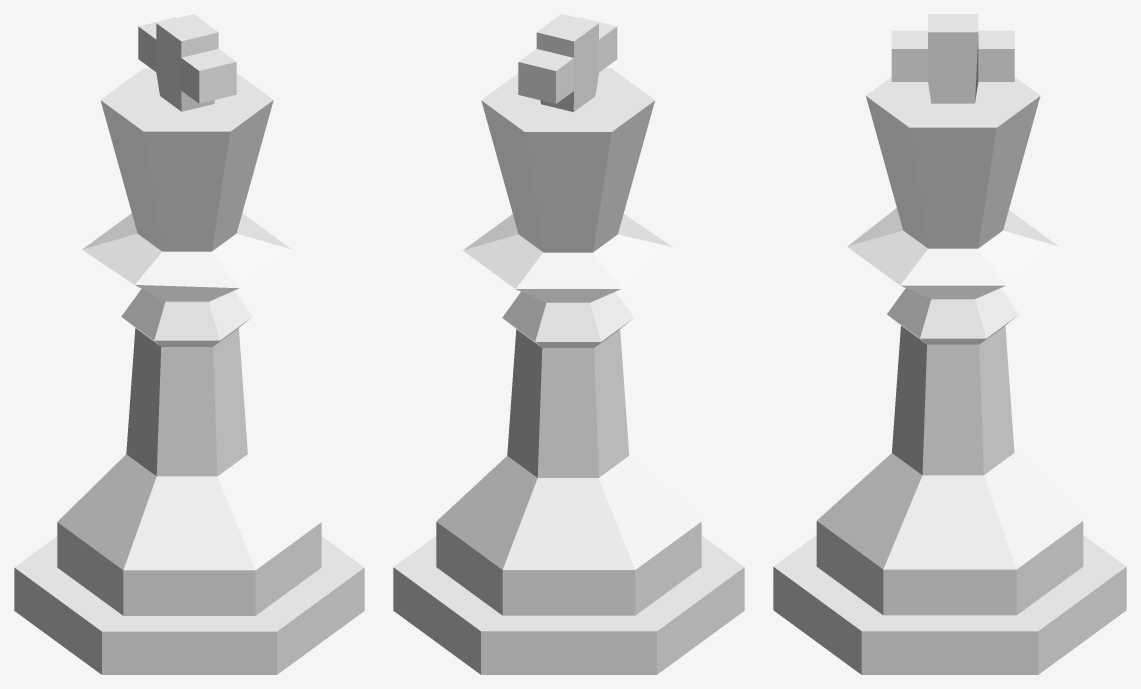
File: chesspieceking01.gltf
3 renders of one model, left to right at view 1: azimuth 30°, elevation 25°; view 2: azimuth 150°, elevation 25°; view 3: azimuth 270°, elevation 25°, orthographic.
Parts seen in each view (by area): view 1: Cylinder.004; view 2: Cylinder.004; view 3: Cylinder.004.
Part boxes in pixels (x1,y1,x2,y2): Cylinder.004: (14,14,364,674); Cylinder.004: (393,14,744,674); Cylinder.004: (773,14,1126,674).
Bounding box in the file's own units: 0.0225 × 0.0477 × 0.026.
1 material, 1 textured.
